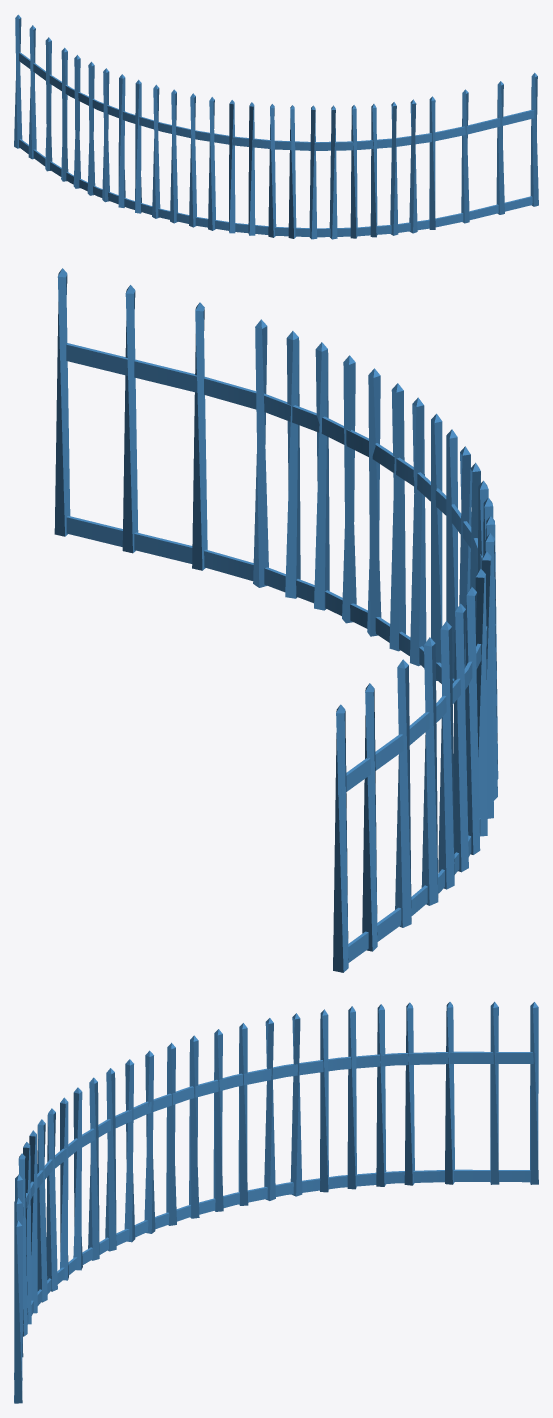
The model's file is Deco_Fence_Bars_Cor.fbx.
3 renders of one model, top to bottom at view 1: azimuth 30°, elevation 25°; view 2: azimuth 150°, elevation 25°; view 3: azimuth 270°, elevation 25°, orthographic. The views are drawn at different scales.
Parts seen in each view (by area): view 1: Deco_Fence_Bars_Cor; view 2: Deco_Fence_Bars_Cor; view 3: Deco_Fence_Bars_Cor.
Part boxes in pixels (x1,y1,x2,y2): Deco_Fence_Bars_Cor: (14, 14, 538, 239); Deco_Fence_Bars_Cor: (54, 268, 498, 972); Deco_Fence_Bars_Cor: (14, 1001, 538, 1403).
Size of the model in its own units: 841 by 319 by 837.
